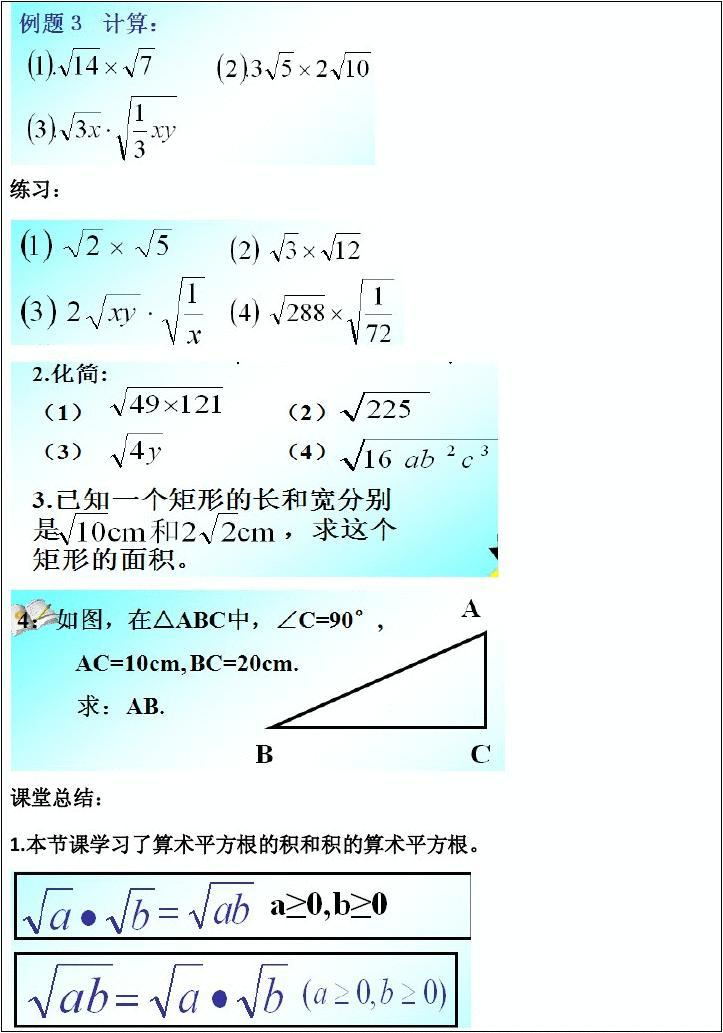cube: (480, 444, 493, 458)
division: (363, 310, 395, 319), (130, 127, 149, 136)
sqrt: (348, 432, 506, 480), (113, 88, 187, 163), (113, 376, 238, 420), (41, 957, 120, 1025), (343, 382, 434, 432), (340, 275, 406, 340), (239, 957, 303, 1024), (148, 955, 212, 1021), (167, 268, 208, 352), (25, 886, 81, 943), (107, 881, 157, 943), (194, 881, 255, 931), (92, 290, 148, 333), (269, 291, 330, 329), (114, 427, 169, 469), (203, 510, 253, 552), (324, 214, 358, 265), (136, 222, 179, 262), (67, 505, 107, 548), (59, 109, 103, 143), (68, 221, 103, 263), (334, 47, 377, 77), (63, 42, 97, 77), (271, 46, 303, 81), (128, 45, 159, 79), (277, 229, 303, 260)
square: (443, 444, 456, 458)
